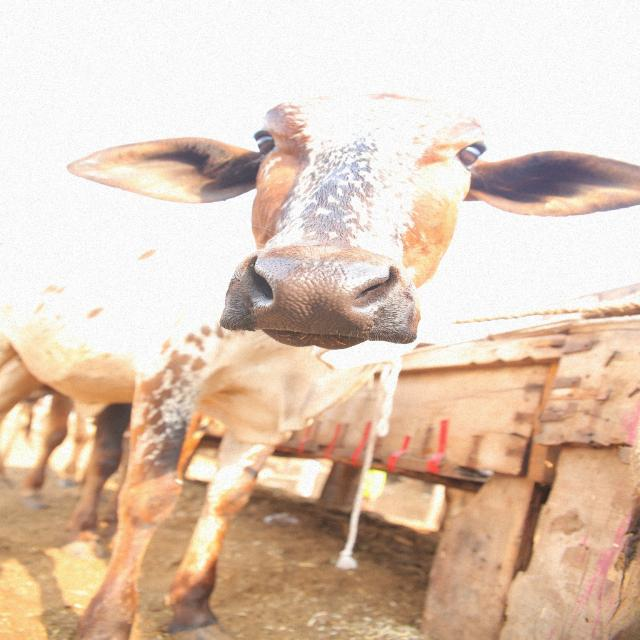muzzles: (240, 246, 403, 344)
